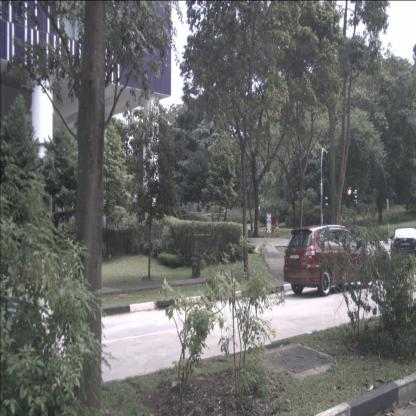vehicle-bicycle: (270, 218, 280, 238)
vehicle-car: (283, 224, 377, 298), (389, 226, 416, 270)
